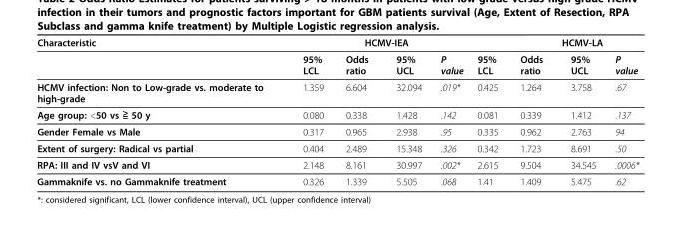table: (36, 36, 638, 186)
table column: (36, 36, 282, 186), (282, 36, 334, 186), (381, 36, 430, 186), (556, 36, 605, 186), (508, 36, 556, 186), (334, 36, 381, 186), (430, 36, 469, 186), (469, 36, 508, 186), (605, 36, 638, 186)
table column header: (36, 36, 638, 78)
table row: (36, 50, 638, 78), (36, 78, 638, 105), (36, 105, 638, 123), (36, 139, 638, 156), (36, 123, 638, 139), (36, 156, 638, 172), (36, 36, 638, 50), (36, 172, 638, 186)
table spanning cell: (36, 36, 282, 78), (282, 36, 469, 50), (508, 36, 638, 50), (469, 36, 508, 78)
